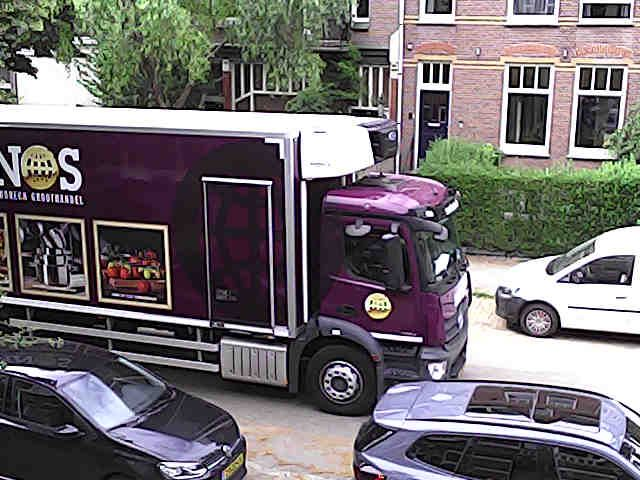suv: (0, 341, 245, 479), (354, 381, 639, 479), (496, 226, 639, 336)
whitevan: (0, 106, 470, 414)
